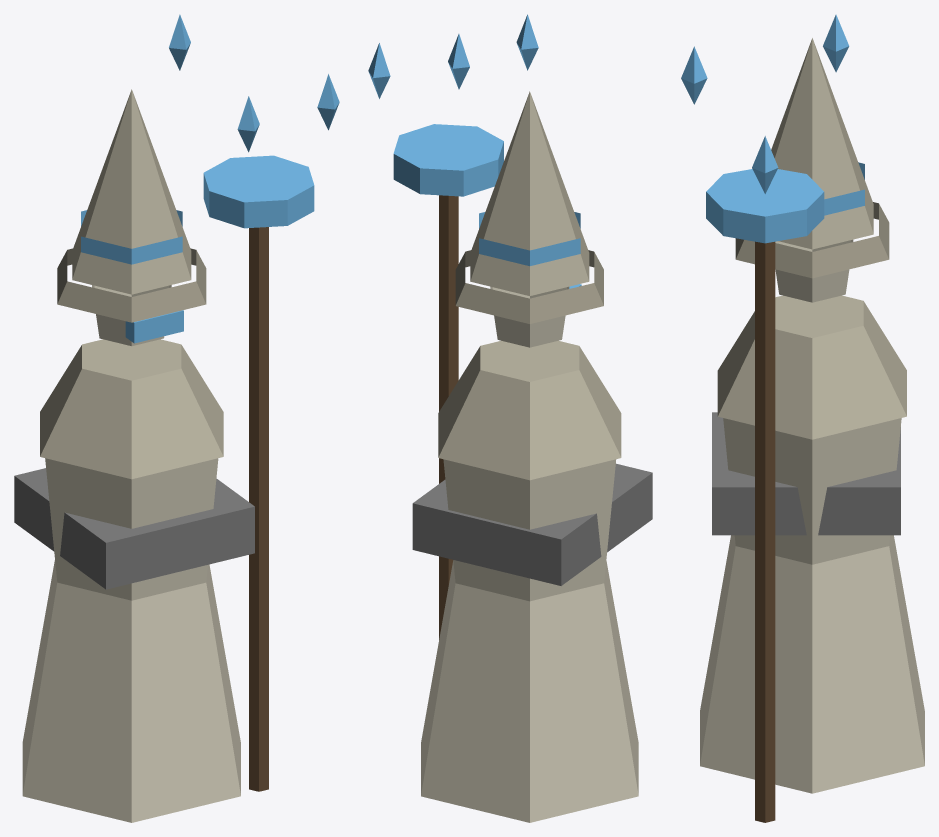
File: stormcaller.obj
3 views of the same model, side by side, from view 1: azimuth 30°, elevation 25°; view 2: azimuth 150°, elevation 25°; view 3: azimuth 270°, elevation 25° (orthographic). The views are drawn at different scales.
Parts seen in each view (by area): view 1: stormcaller; view 2: stormcaller; view 3: stormcaller.
Part boxes in pixels (left/top/right/bottom): stormcaller: left=14, top=14, right=339, bottom=822; stormcaller: left=368, top=14, right=652, bottom=822; stormcaller: left=681, top=14, right=924, bottom=822.
Size of the model in its own units: 1.19 by 2.92 by 0.8261.
